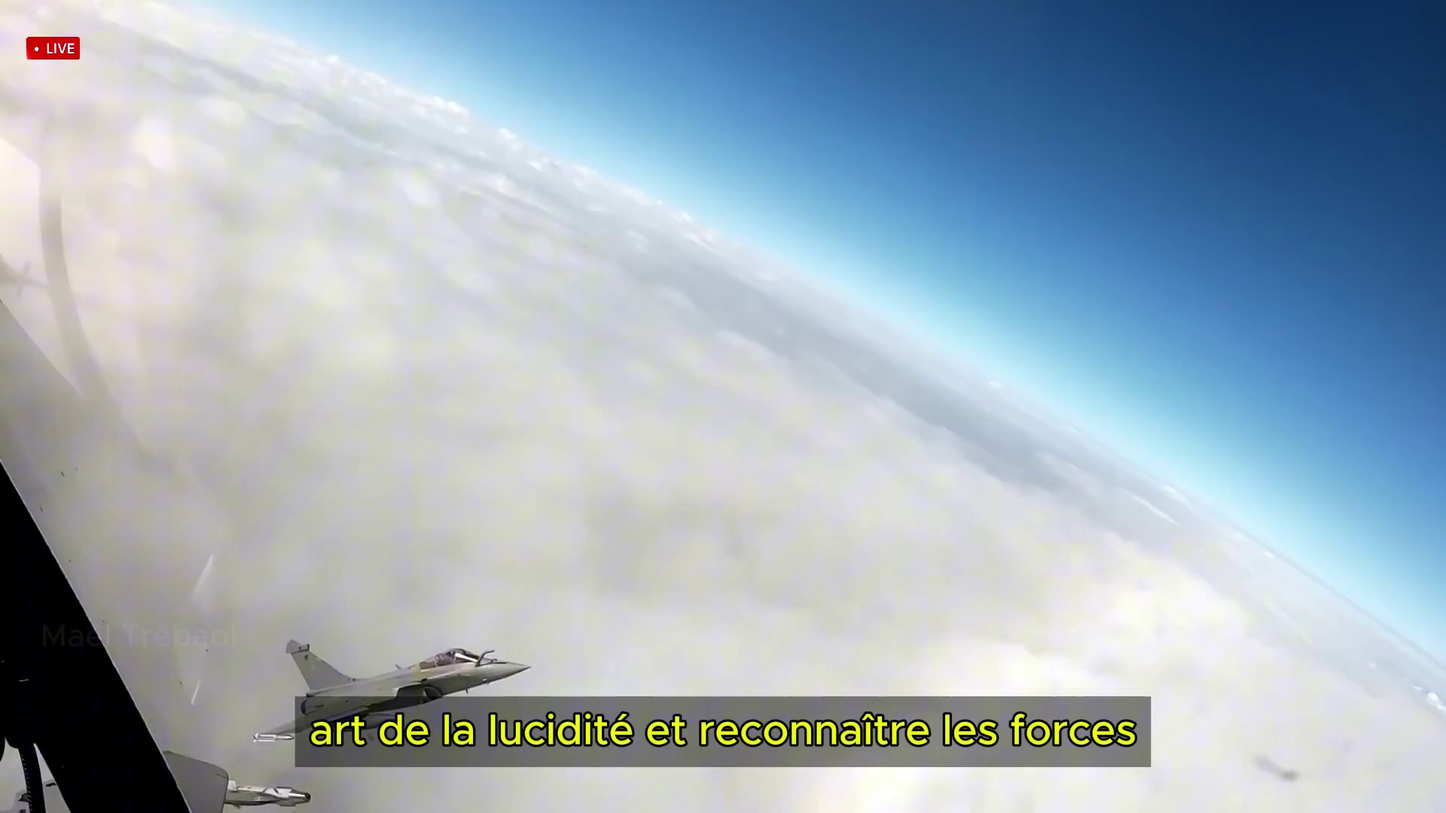Rafale: (273, 639, 531, 736)
